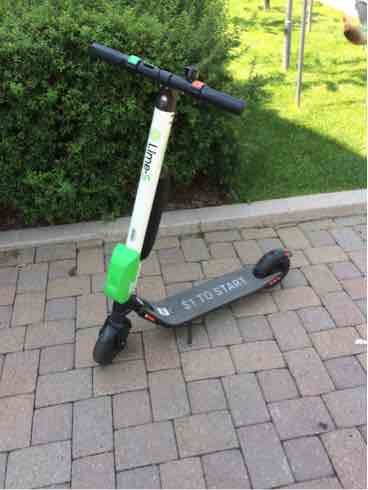scooter: (81, 35, 301, 374)
